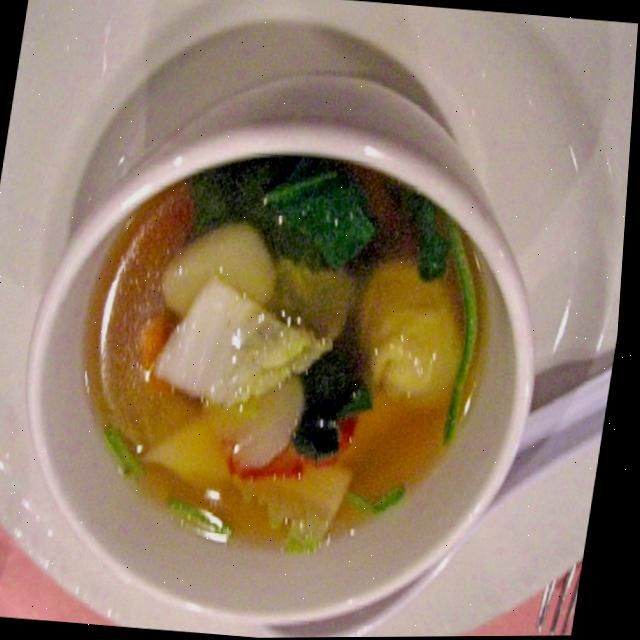汤锅炖物: (0, 78, 577, 639)
